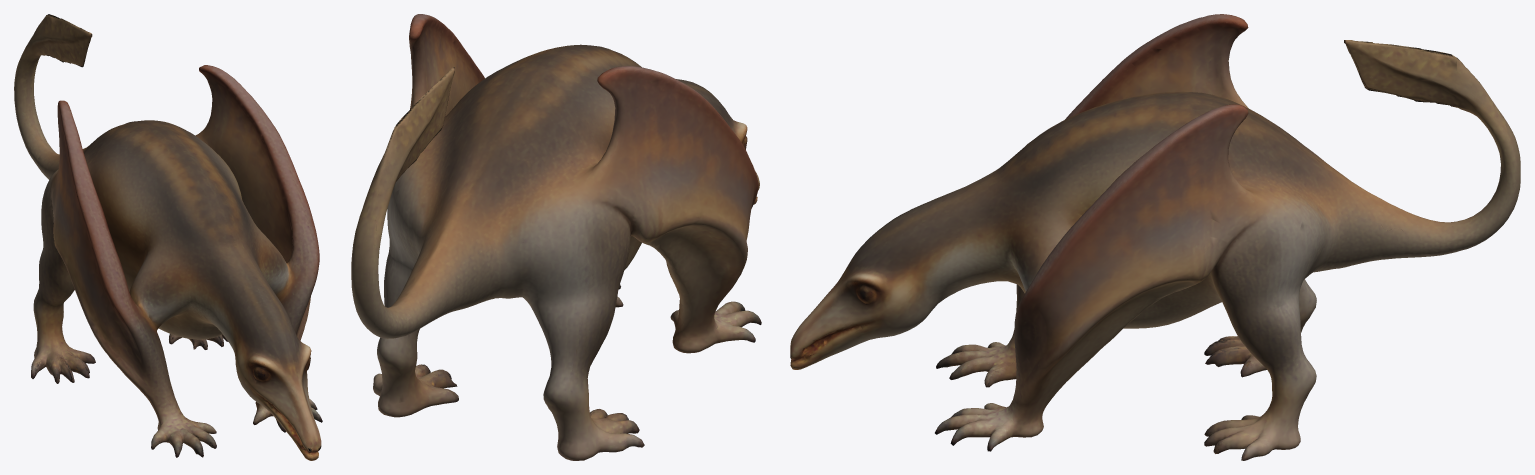
The picture shows the model from 3 angles, left to right: view 1: azimuth 30°, elevation 25°; view 2: azimuth 150°, elevation 25°; view 3: azimuth 270°, elevation 25°; orthographic projection. The views are drawn at different scales.
Parts seen in each view (by area): view 1: world; view 2: world; view 3: world.
Part boxes in pixels (x1,y1,x2,y2): world: (14,14,322,460); world: (351,14,761,460); world: (790,14,1520,460).
Size of the model in its own units: 0.2172 by 0.2748 by 0.5.
Materials: 1 (1 with a texture image).
